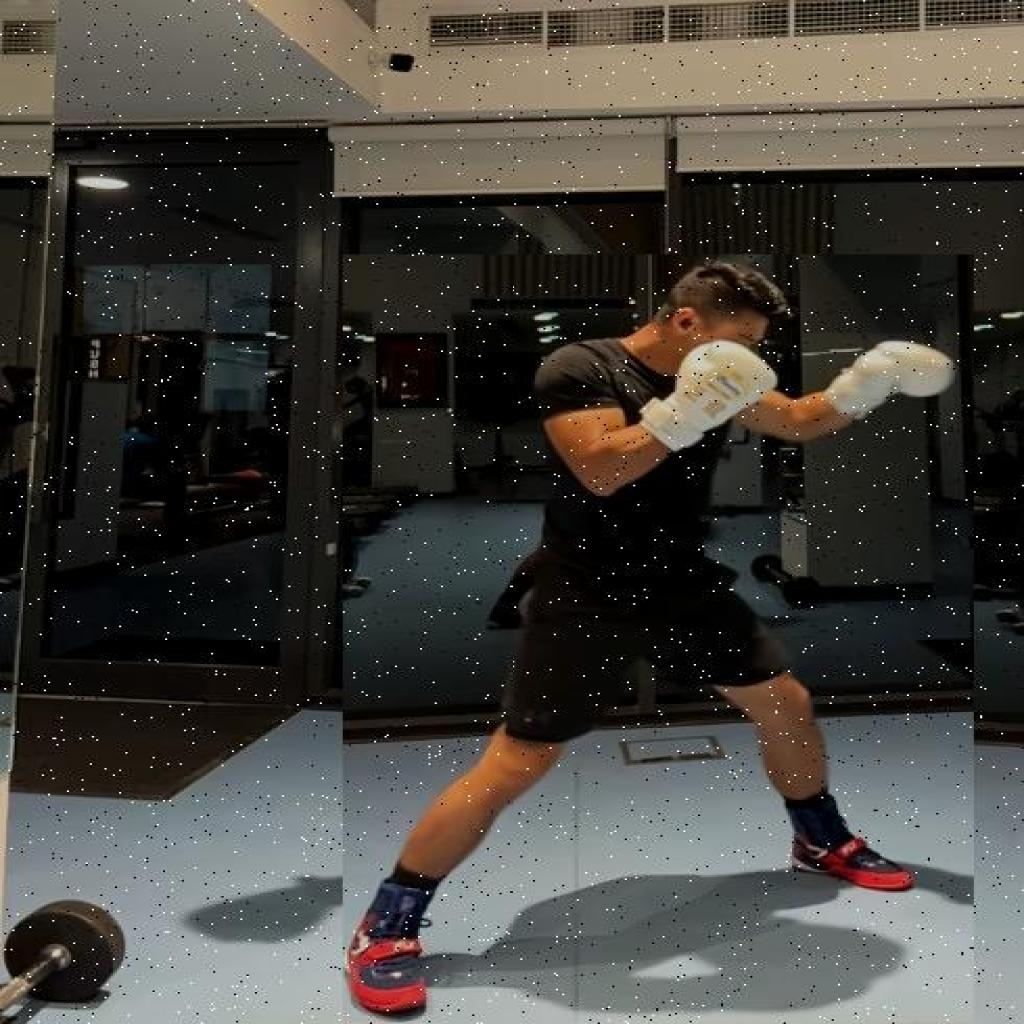jab: (343, 254, 974, 1022)
